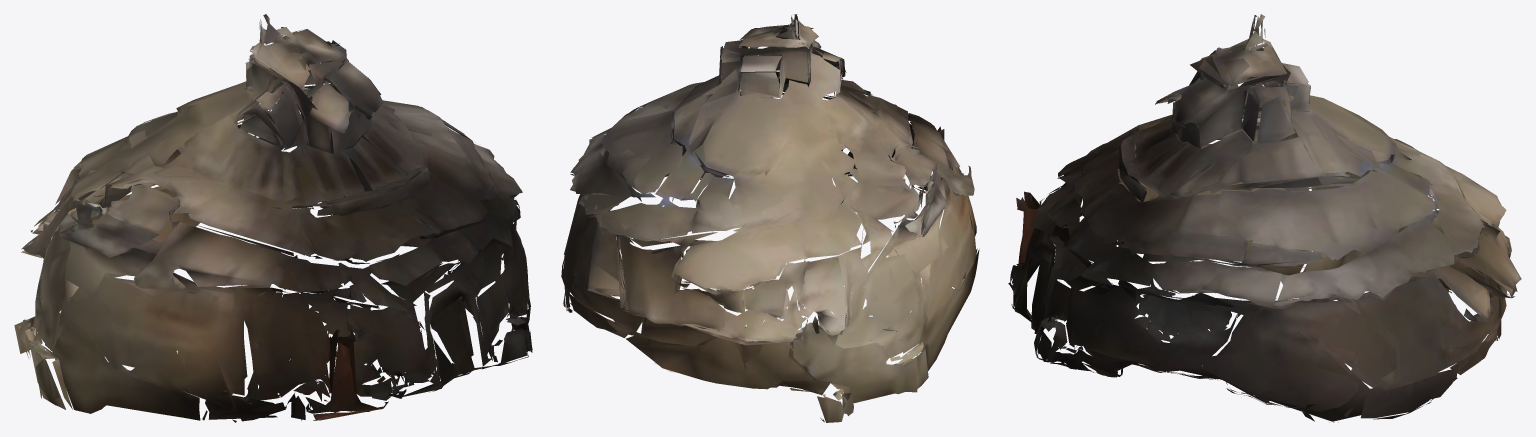
File: saleucami-farmhouse.lo.glb
3 views of the same model, side by side, from view 1: azimuth 30°, elevation 25°; view 2: azimuth 150°, elevation 25°; view 3: azimuth 270°, elevation 25° (orthographic). The views are drawn at different scales.
Visible parts, largest first — view 1: low; view 2: low; view 3: low.
Boxes of the visible parts, x1,y1,x2,y2 form: low: [14, 14, 532, 422]; low: [561, 14, 979, 422]; low: [1008, 14, 1521, 422].
Bounding box in the file's own units: 0.8052 × 0.6853 × 0.8979.
Materials: 1 (1 with a texture image).
